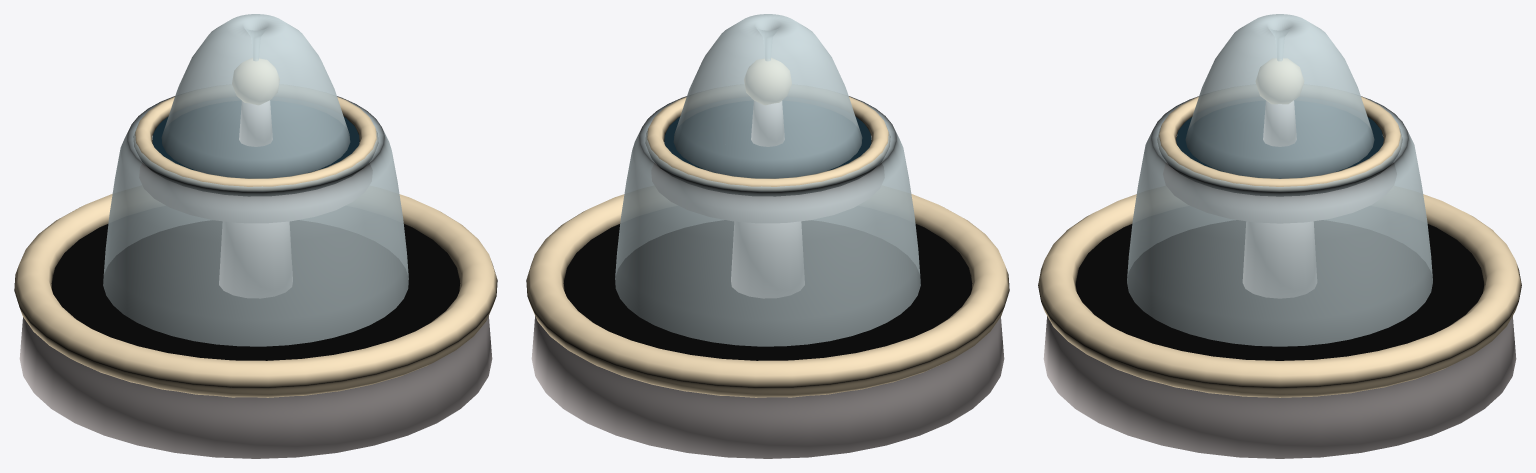
The picture shows the model from 3 angles, left to right: view 1: azimuth 30°, elevation 25°; view 2: azimuth 150°, elevation 25°; view 3: azimuth 270°, elevation 25°; orthographic projection.
Visible parts, largest first — view 1: Deco fountain; view 2: Deco fountain; view 3: Deco fountain.
Part boxes in pixels (x1=…): Deco fountain: x1=14, y1=14, x2=497, y2=458; Deco fountain: x1=526, y1=14, x2=1009, y2=458; Deco fountain: x1=1038, y1=14, x2=1521, y2=458.
Size of the model in its own units: 2.56 by 1.95 by 2.56.
